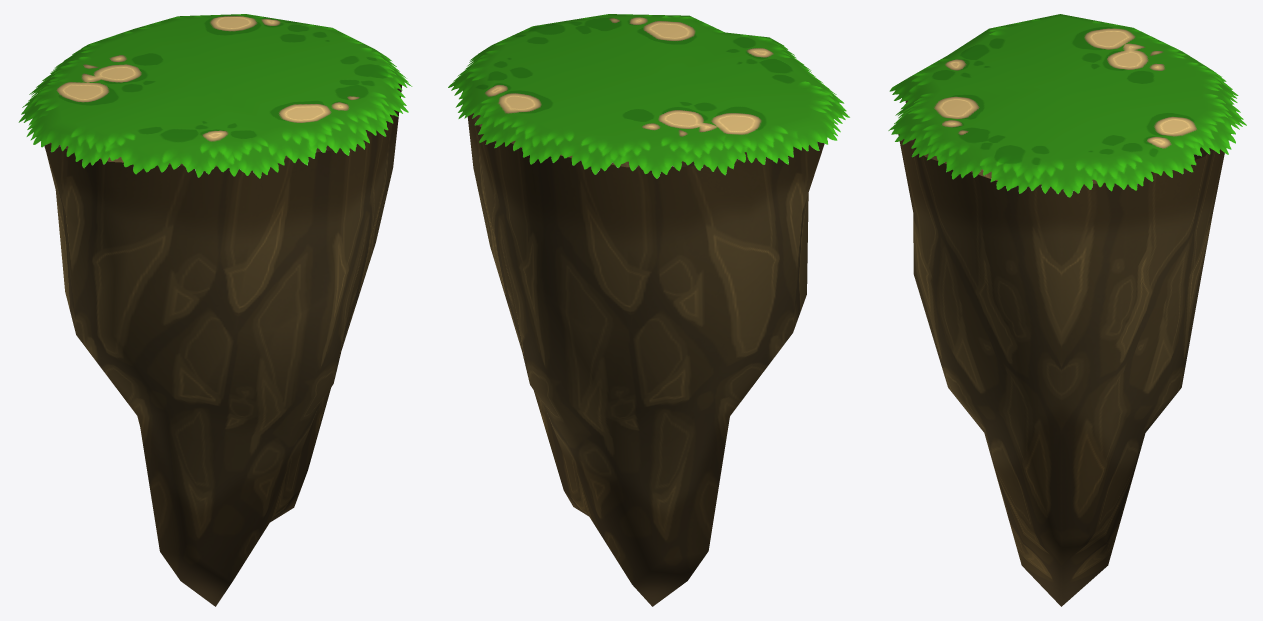
Rendered from Island_06.FBX.
The picture shows the model from 3 angles, left to right: view 1: azimuth 30°, elevation 25°; view 2: azimuth 150°, elevation 25°; view 3: azimuth 270°, elevation 25°; orthographic projection. The views are drawn at different scales.
Parts seen in each view (by area): view 1: Island_06; view 2: Island_06; view 3: Island_06.
Boxes of the visible parts, x1,y1,x2,y2 form: Island_06: (18, 14, 412, 606); Island_06: (448, 14, 849, 606); Island_06: (888, 14, 1246, 606).
Bounding box in the file's own units: 239 × 324 × 208.
